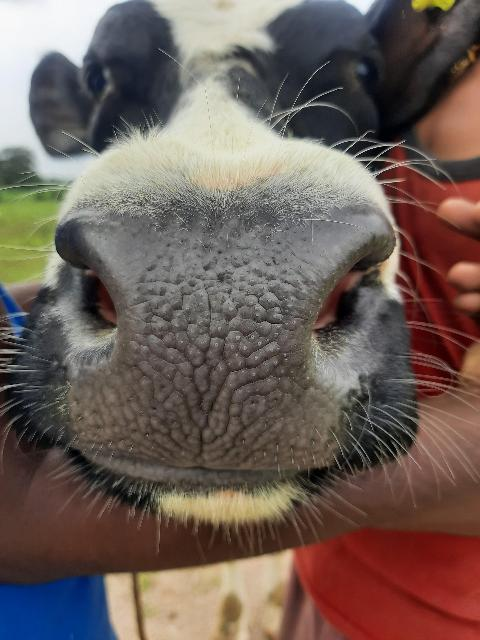Muzzle: (96, 227, 328, 473)
